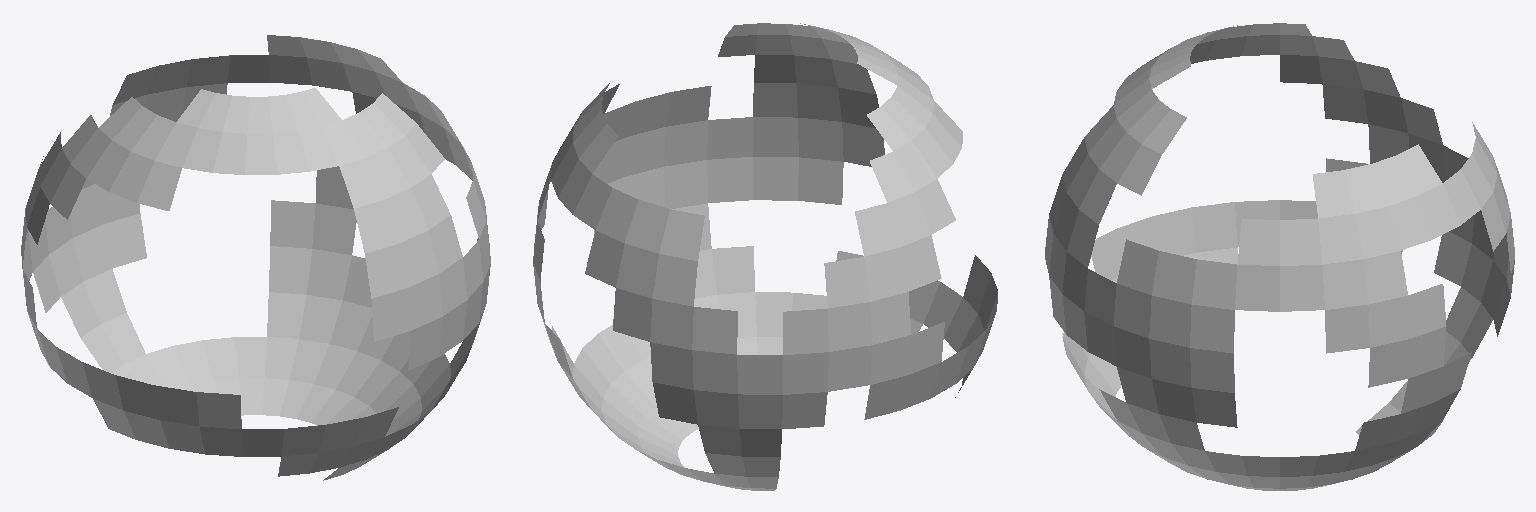
File: TestNavMesh.obj
3 views of the same model, side by side, from view 1: azimuth 30°, elevation 25°; view 2: azimuth 150°, elevation 25°; view 3: azimuth 270°, elevation 25° (orthographic).
Visible parts, largest first — view 1: NavMesh_Sphere.001; view 2: NavMesh_Sphere.001; view 3: NavMesh_Sphere.001.
Part boxes in pixels (x1,y1,x2,y2): NavMesh_Sphere.001: (21, 35, 490, 480); NavMesh_Sphere.001: (533, 23, 997, 490); NavMesh_Sphere.001: (1045, 23, 1514, 490).
Bounding box in the file's own units: 1.96 × 1.85 × 2.